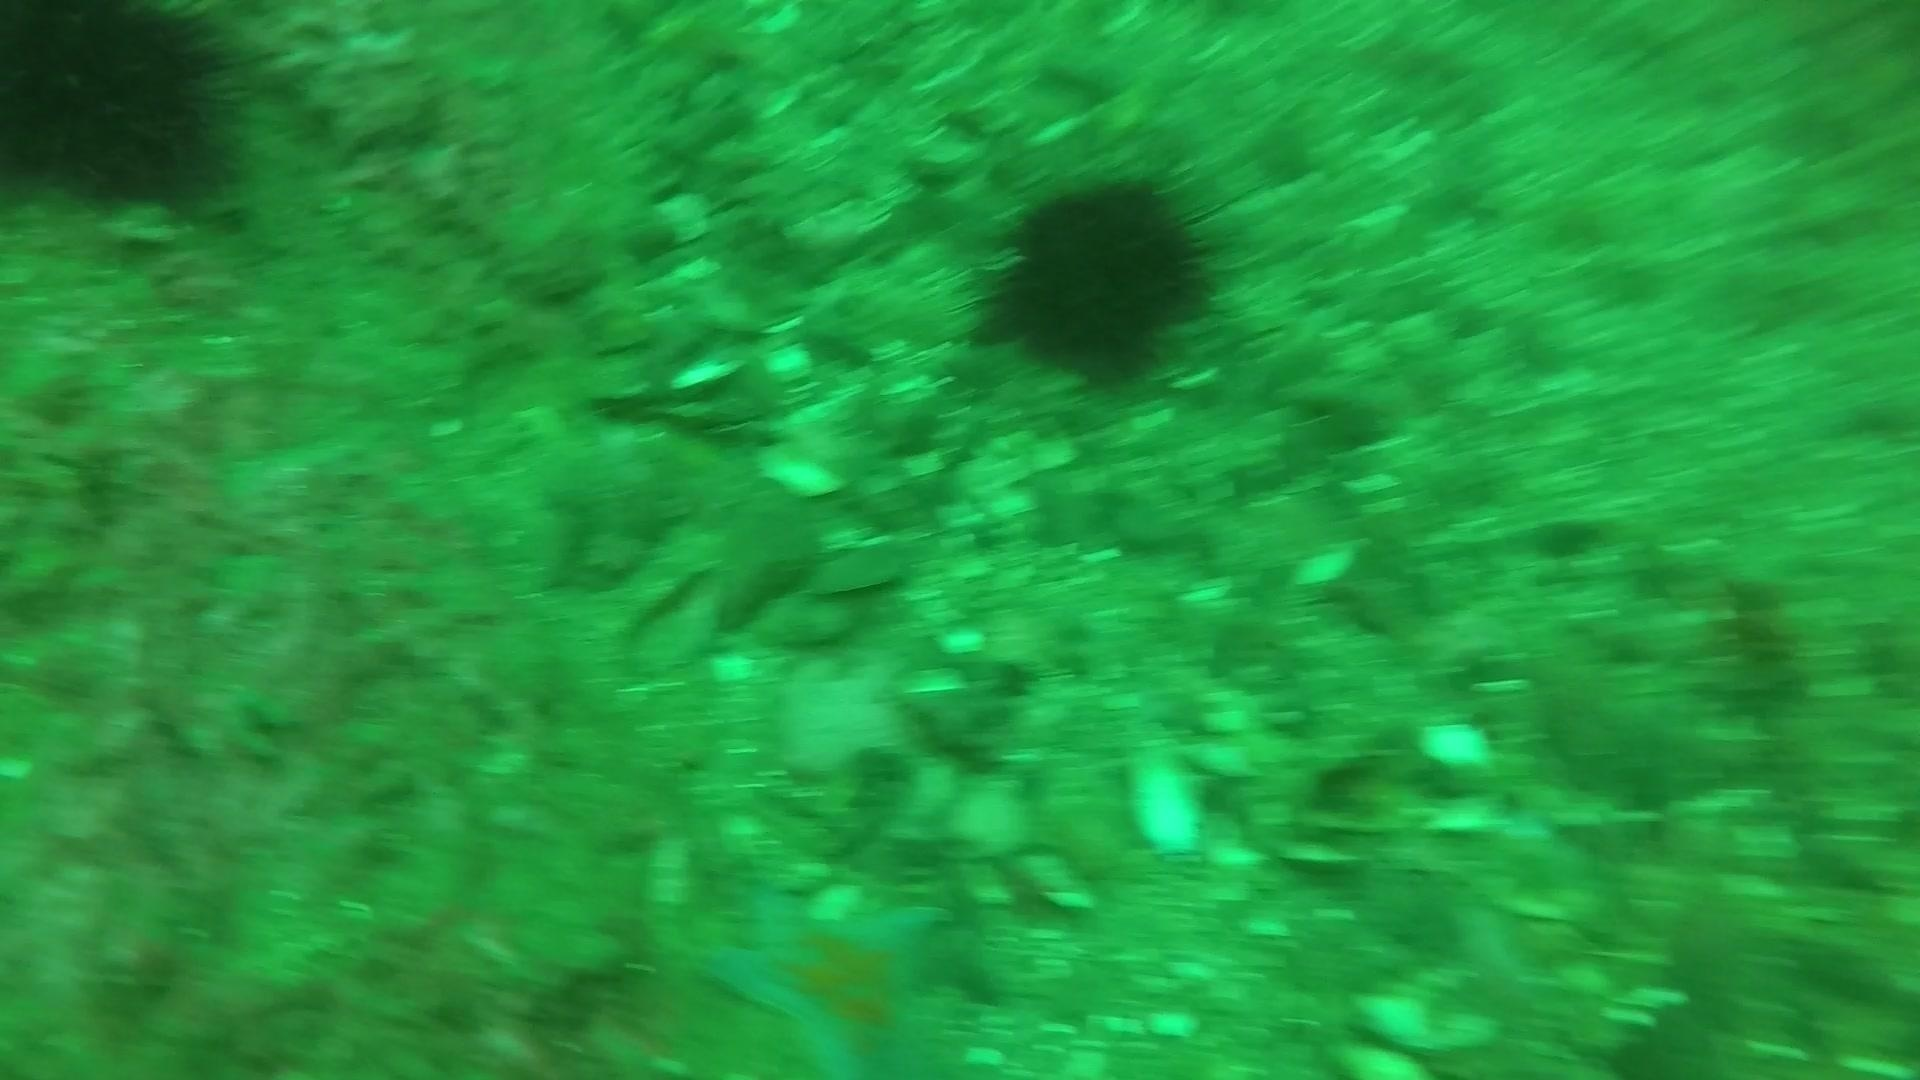echinus: (967, 162, 1234, 390), (0, 0, 255, 222)
starfish: (694, 868, 971, 1080)
